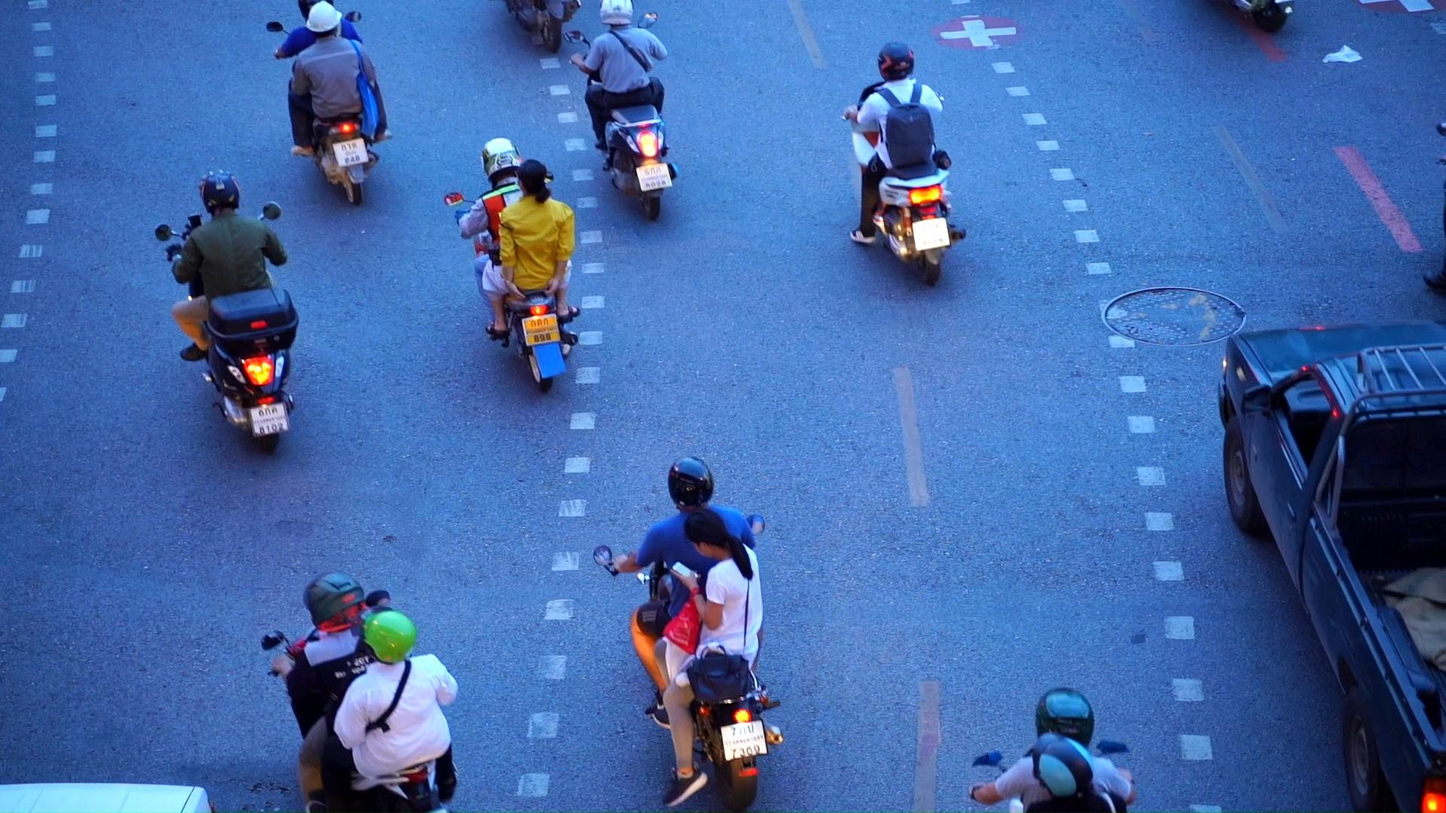driver: (593, 456, 784, 813), (260, 572, 459, 813), (154, 169, 299, 453), (444, 138, 581, 393), (841, 41, 968, 288), (266, 0, 392, 206), (563, 0, 680, 221), (968, 687, 1134, 813)
helmet: (1032, 731, 1093, 801), (351, 605, 417, 666), (303, 572, 365, 632), (1036, 687, 1094, 749), (668, 456, 714, 512), (198, 169, 241, 214), (481, 138, 521, 183), (878, 41, 914, 81), (307, 0, 342, 39), (600, 0, 634, 27), (298, 0, 333, 24)
no-helmet: (684, 509, 752, 561), (515, 159, 551, 205)
